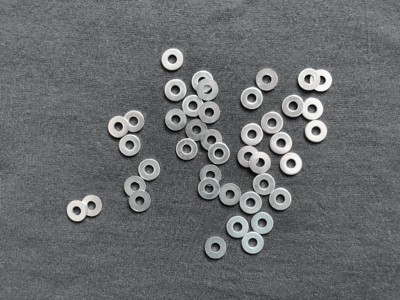circle: (217, 182, 243, 208), (118, 133, 143, 160), (254, 68, 280, 93), (160, 49, 185, 74), (128, 190, 152, 216), (239, 190, 263, 216), (203, 236, 228, 260), (305, 120, 329, 145), (241, 85, 265, 110), (123, 109, 146, 135), (80, 195, 104, 219), (138, 158, 162, 182), (225, 216, 249, 240), (261, 111, 285, 135), (174, 138, 198, 162), (164, 109, 188, 133), (164, 78, 188, 102), (252, 173, 277, 196), (280, 152, 303, 177), (298, 67, 321, 92), (269, 132, 294, 155), (185, 119, 210, 142), (123, 175, 146, 199), (200, 129, 224, 152), (197, 178, 222, 200), (283, 94, 305, 119), (241, 232, 264, 255), (310, 69, 333, 92), (241, 124, 264, 147), (208, 143, 231, 166), (199, 102, 222, 125), (192, 70, 215, 93), (251, 213, 275, 235), (269, 189, 293, 211), (236, 146, 260, 168), (199, 164, 222, 186), (249, 152, 272, 174), (197, 79, 220, 101), (109, 115, 130, 139), (301, 99, 325, 120), (183, 95, 205, 117), (67, 200, 87, 222)
